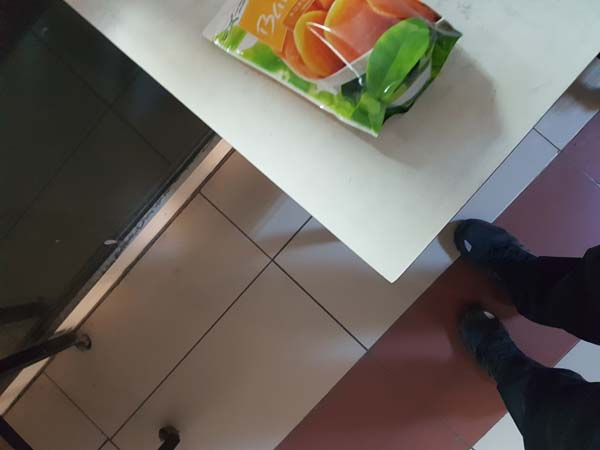bahcedenkurukayisi: (198, 1, 467, 143)
